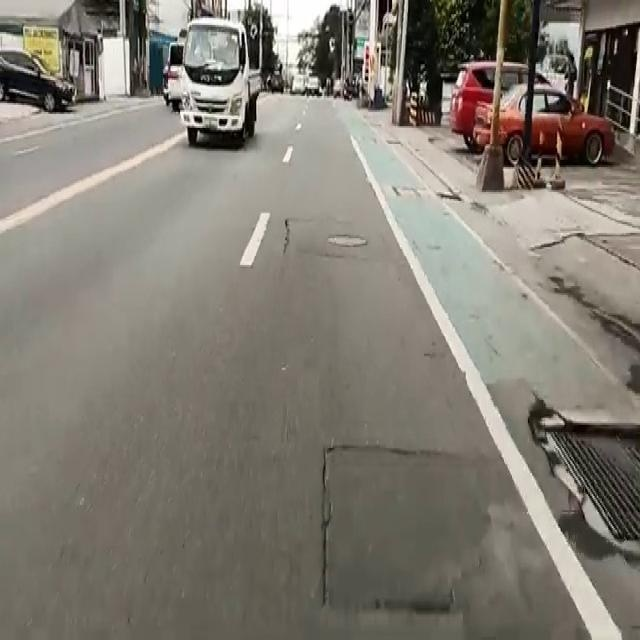car: (474, 89, 603, 169), (0, 49, 79, 116)
truck: (174, 20, 266, 154)
